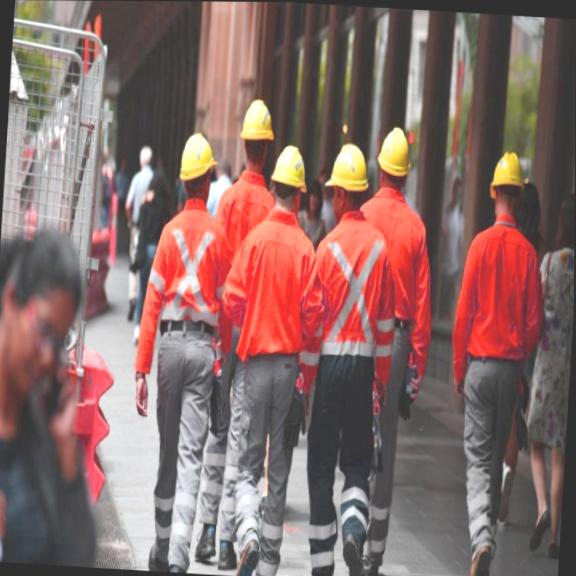safety_vest: (306, 195, 394, 371), (454, 216, 543, 379), (360, 187, 438, 355), (234, 209, 311, 371), (147, 200, 227, 347)
